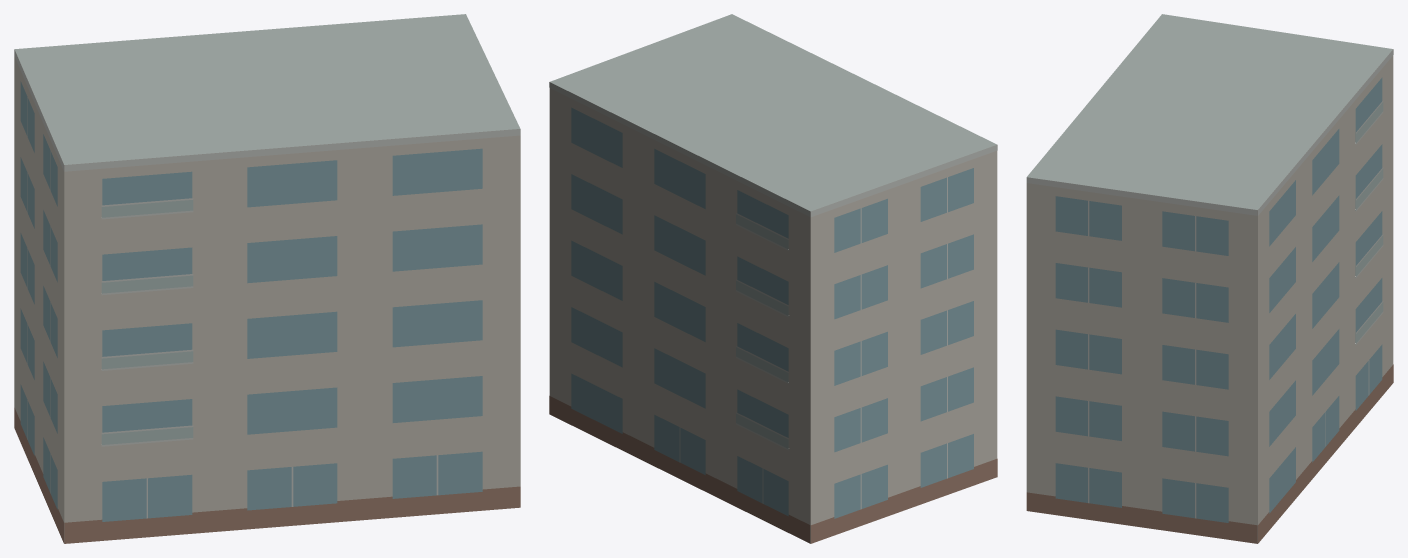
The model's file is survey-upis-32884210.glb.
The picture shows the model from 3 angles, left to right: view 1: azimuth 30°, elevation 25°; view 2: azimuth 150°, elevation 25°; view 3: azimuth 270°, elevation 25°; orthographic projection. The views are drawn at different scales.
Visible parts, largest first — view 1: survey-upis-32884210.tmp; view 2: survey-upis-32884210.tmp; view 3: survey-upis-32884210.tmp.
Part boxes in pixels (box(x1,y1,x2,y2)): survey-upis-32884210.tmp: box(14, 14, 520, 543); survey-upis-32884210.tmp: box(549, 14, 997, 543); survey-upis-32884210.tmp: box(1026, 14, 1393, 543).
Bounding box in the file's own units: 17.4 × 13.8 × 13.76.
